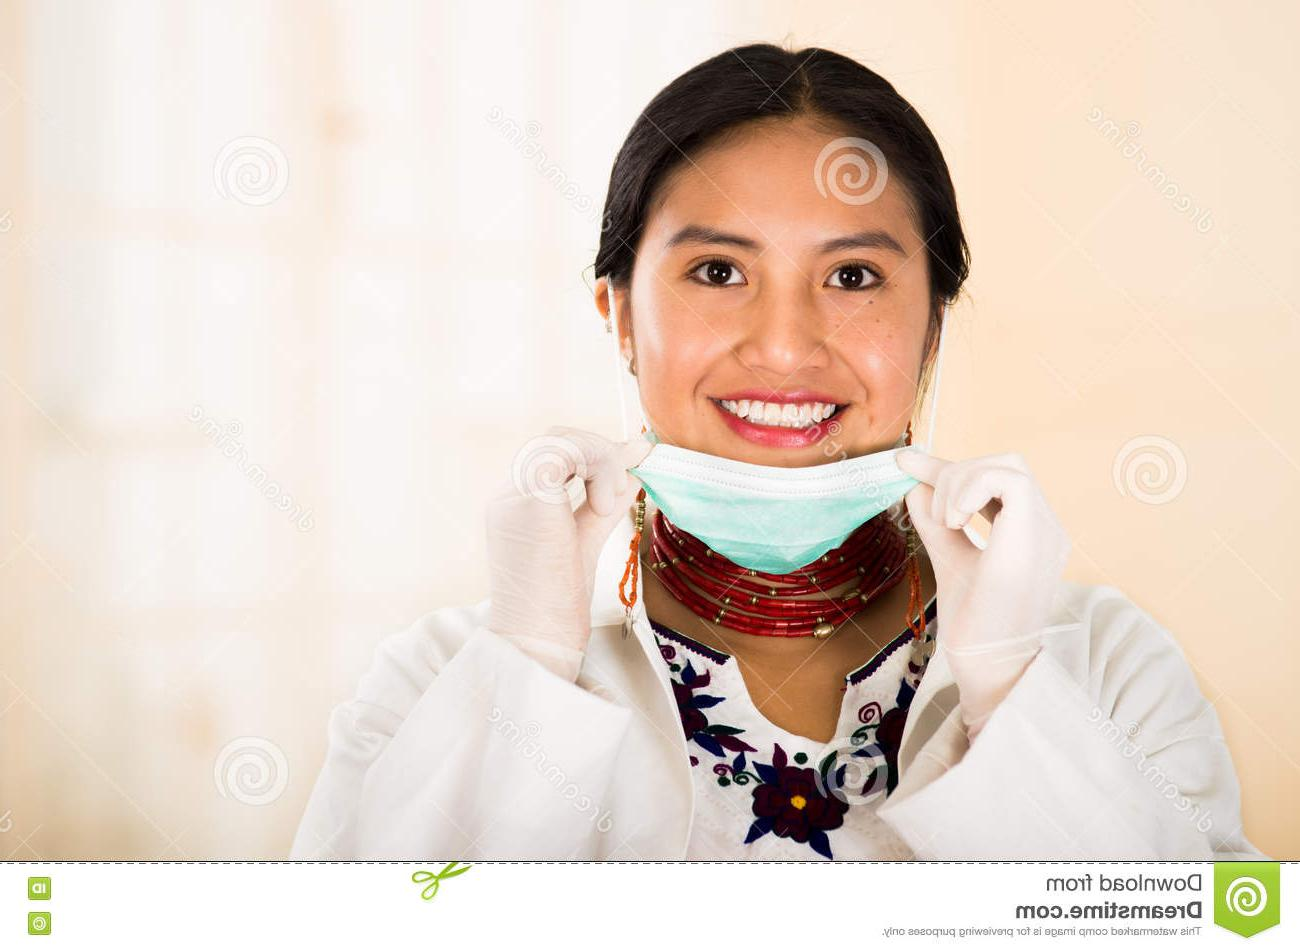mask_weared_incorrect: (643, 217, 914, 532)
